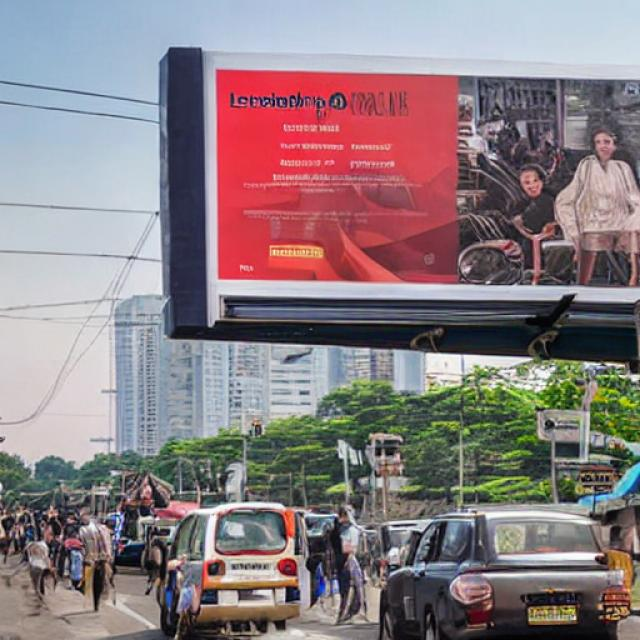Billboard: (202, 59, 640, 339)
